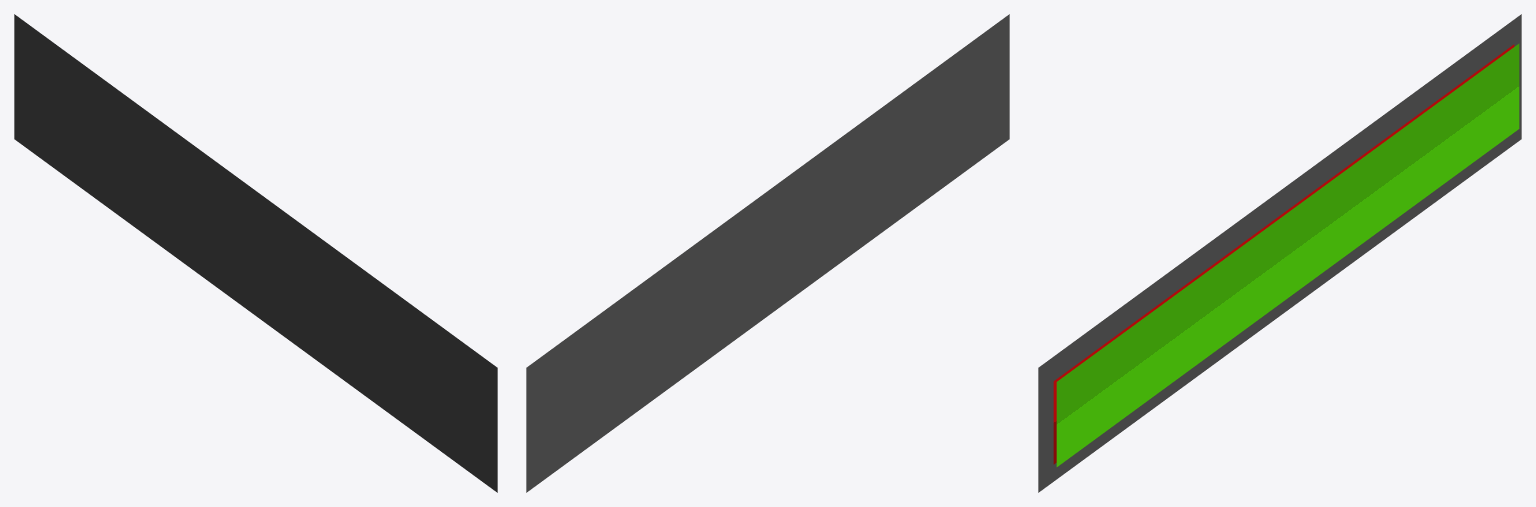
File: health-bar.gltf
The picture shows the model from 3 angles, left to right: view 1: azimuth 30°, elevation 25°; view 2: azimuth 150°, elevation 25°; view 3: azimuth 330°, elevation 25°; orthographic projection.
Parts seen in each view (by area): view 1: boarder; view 2: boarder; view 3: full, boarder, empty.
Boxes of the visible parts, <box> form: boarder: <box>14,14,497,492</box>; boarder: <box>526,14,1009,492</box>; full: <box>1056,43,1519,466</box>; boarder: <box>1038,14,1521,492</box>; empty: <box>1053,44,1514,464</box>.
Bounding box in the file's own units: 0.0125 × 0.1875 × 1.31.
1 material, 1 textured.
